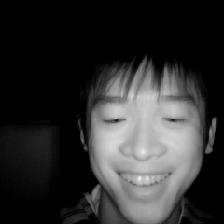happy: (75, 39, 221, 222)
